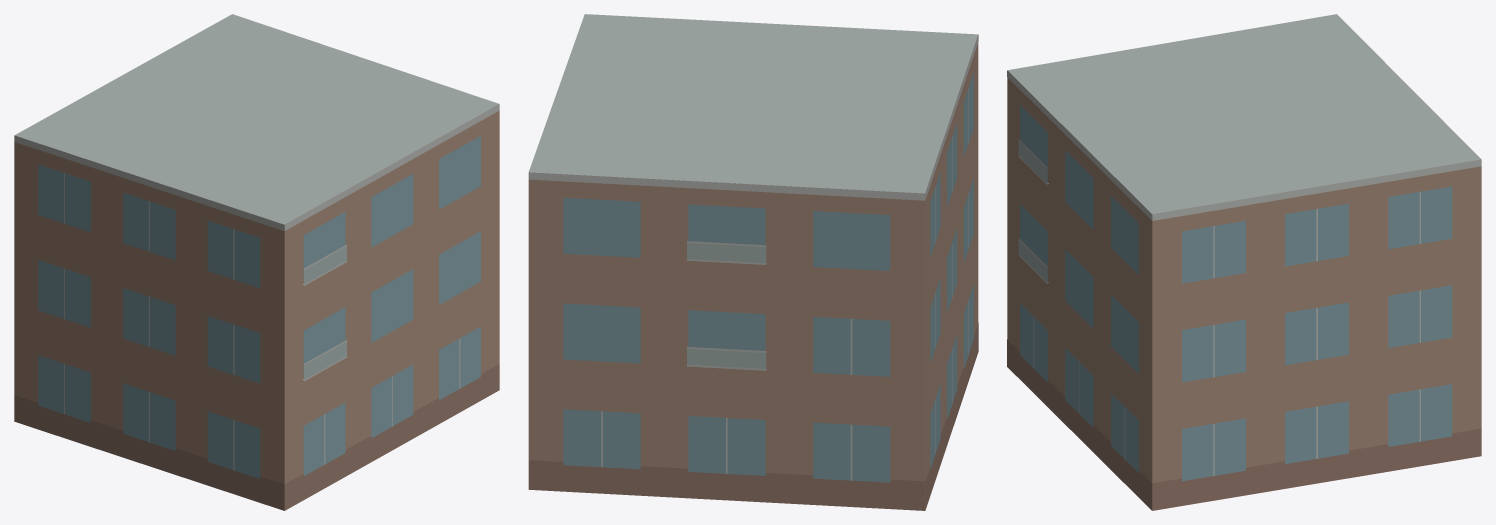
Rendered from survey-upis-32950801.glb.
The picture shows the model from 3 angles, left to right: view 1: azimuth 30°, elevation 25°; view 2: azimuth 150°, elevation 25°; view 3: azimuth 270°, elevation 25°; orthographic projection. The views are drawn at different scales.
Visible parts, largest first — view 1: survey-upis-32950801.tmp; view 2: survey-upis-32950801.tmp; view 3: survey-upis-32950801.tmp.
Part boxes in pixels (bbox=[...]): survey-upis-32950801.tmp: bbox=[14, 14, 499, 510]; survey-upis-32950801.tmp: bbox=[528, 14, 978, 510]; survey-upis-32950801.tmp: bbox=[1007, 14, 1481, 510].
Bounding box in the file's own units: 15.66 × 10.8 × 15.67.
